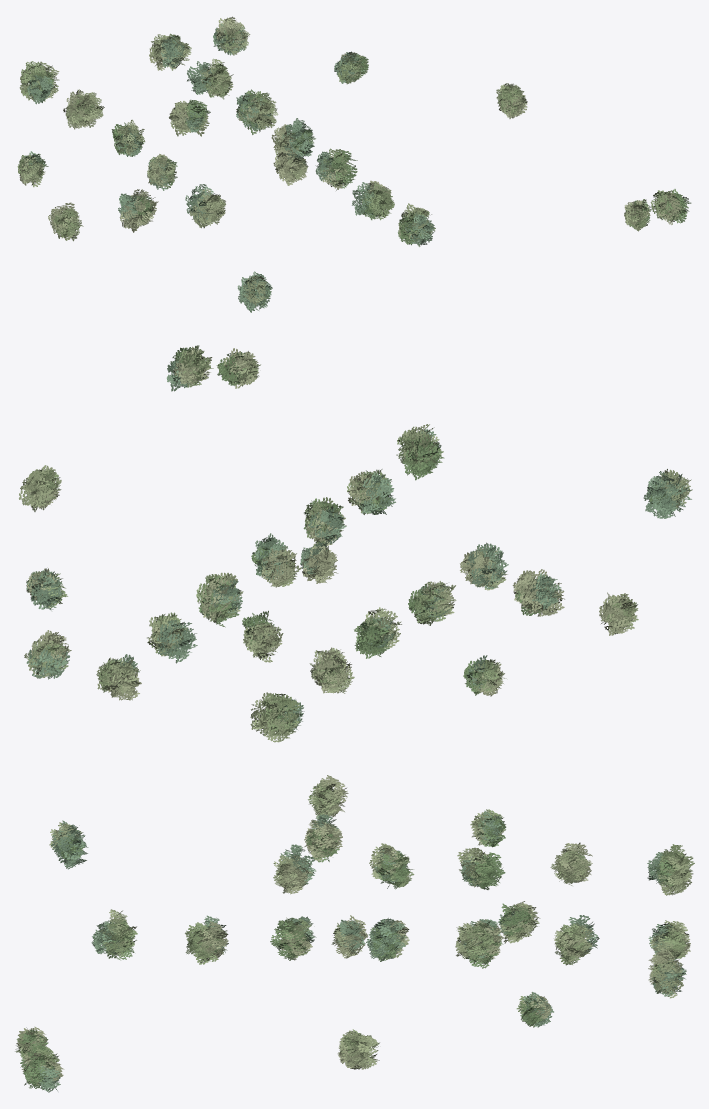
The model's file is campus-tree-3_-3-middle.glb.
3 renders of one model, top to bottom at view 1: azimuth 30°, elevation 25°; view 2: azimuth 150°, elevation 25°; view 3: azimuth 270°, elevation 25°, orthographic. The views are drawn at different scales.
Parts seen in each view (by area): view 1: Campus leaf canopy; view 2: Campus leaf canopy; view 3: Campus leaf canopy.
Part boxes in pixels (x1,y1,x2,y2): Campus leaf canopy: (17,16,691,312); Campus leaf canopy: (19,345,692,742); Campus leaf canopy: (15,775,694,1092).
Bounding box in the file's own units: 80.36 × 7.76 × 82.4.
1 material, 1 textured.
